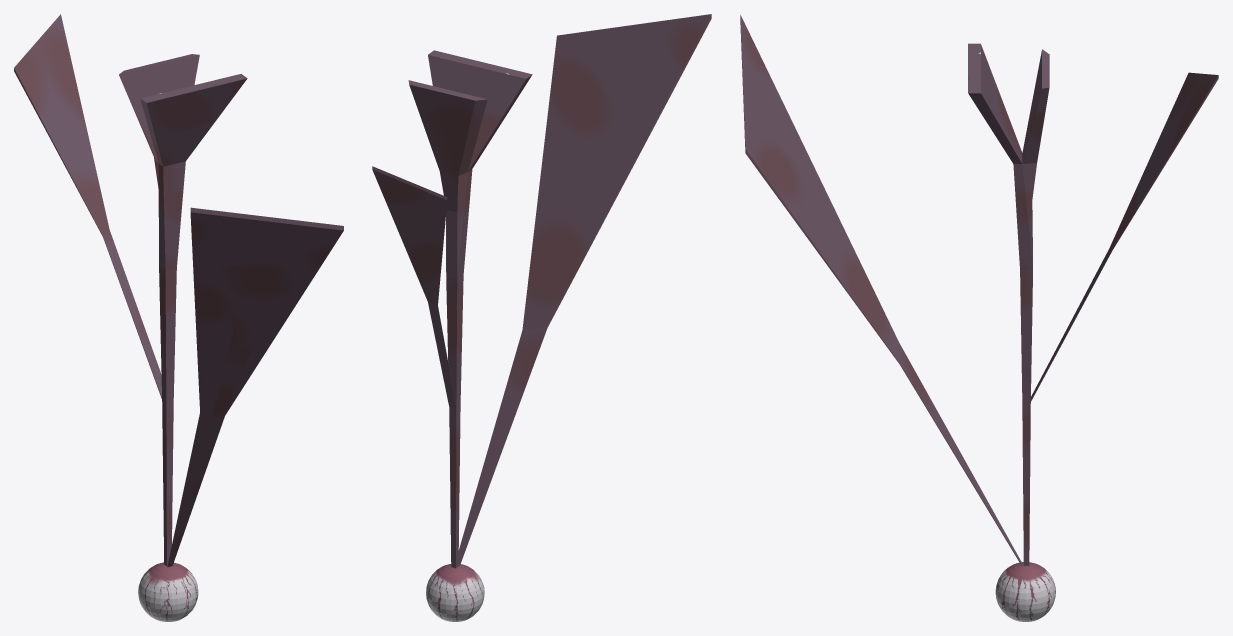
File: eye.fbx
The picture shows the model from 3 angles, left to right: view 1: azimuth 30°, elevation 25°; view 2: azimuth 150°, elevation 25°; view 3: azimuth 270°, elevation 25°; orthographic projection. The views are drawn at different scales.
Visible parts, largest first — view 1: Sphere; view 2: Sphere; view 3: Sphere.
Part boxes in pixels (left/top/right/bottom): Sphere: left=14, top=14, right=343, bottom=621; Sphere: left=372, top=14, right=711, bottom=621; Sphere: left=740, top=15, right=1218, bottom=621.
Bounding box in the file's own units: 111 × 342 × 270.
Materials: 1 (1 with a texture image).
